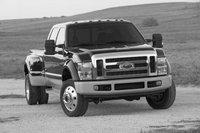car: (24, 19, 179, 119)
